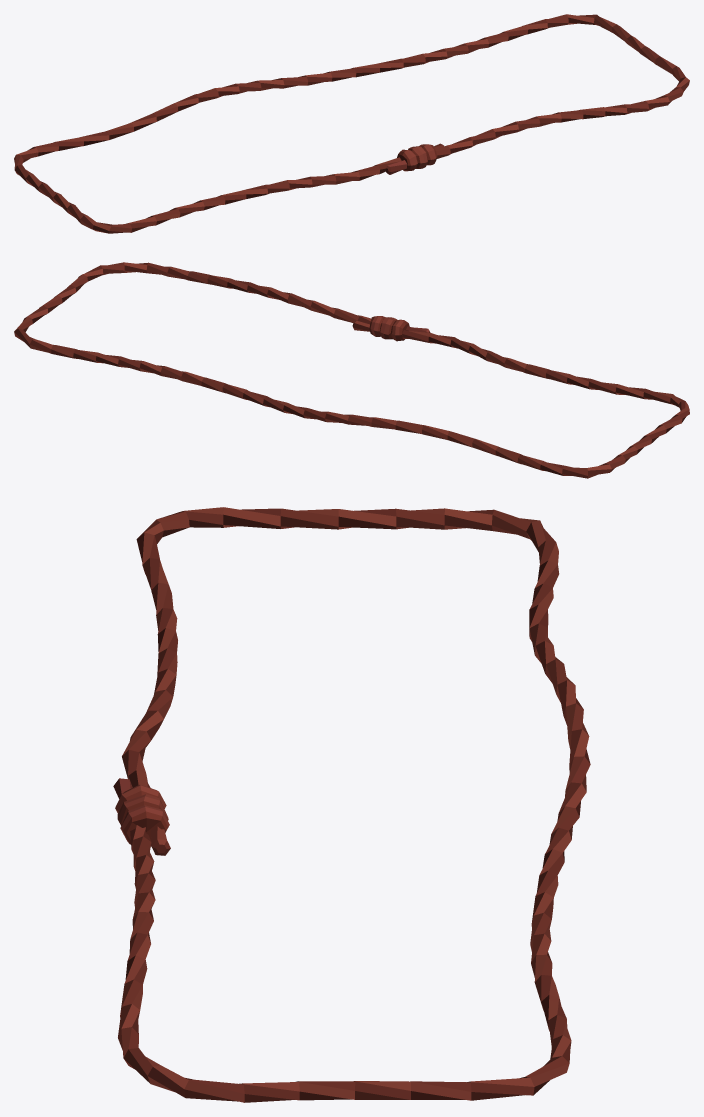
Rendered from tent-ring.glb.
The picture shows the model from 3 angles, top to bottom: view 1: azimuth 30°, elevation 25°; view 2: azimuth 150°, elevation 25°; view 3: azimuth 270°, elevation 25°; orthographic projection. The views are drawn at different scales.
Visible parts, largest first — view 1: SM_Prop_Tent_Ring_01; view 2: SM_Prop_Tent_Ring_01; view 3: SM_Prop_Tent_Ring_01.
Part boxes in pixels (x1,y1,x2,y2): SM_Prop_Tent_Ring_01: (14, 14, 689, 233); SM_Prop_Tent_Ring_01: (14, 262, 689, 478); SM_Prop_Tent_Ring_01: (113, 507, 590, 1102).
Bounding box in the file's own units: 1289 × 48.61 × 445.
1 material, 1 textured.
